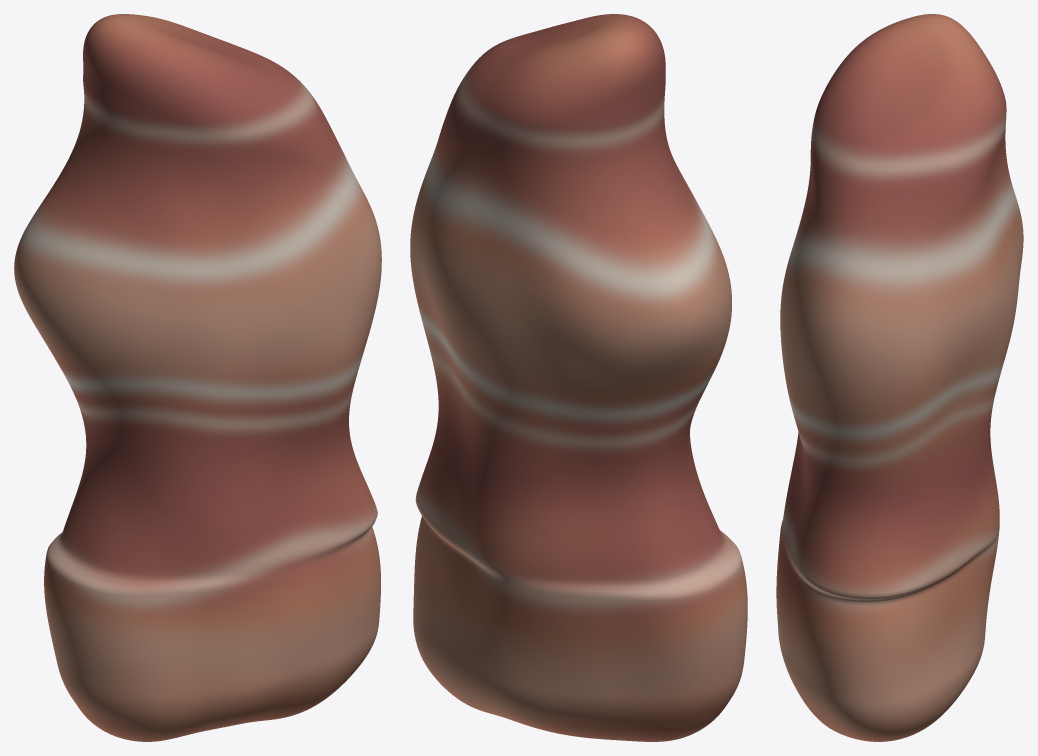
The model's file is idlex-monolith.glb.
The picture shows the model from 3 angles, left to right: view 1: azimuth 30°, elevation 25°; view 2: azimuth 150°, elevation 25°; view 3: azimuth 270°, elevation 25°; orthographic projection. The views are drawn at different scales.
Parts seen in each view (by area): view 1: geometry_0; view 2: geometry_0; view 3: geometry_0.
Part boxes in pixels (x1,y1,x2,y2): geometry_0: (14, 14, 381, 741); geometry_0: (410, 14, 747, 741); geometry_0: (776, 14, 1023, 741).
Bounding box in the file's own units: 2.63 × 5.55 × 1.91.
